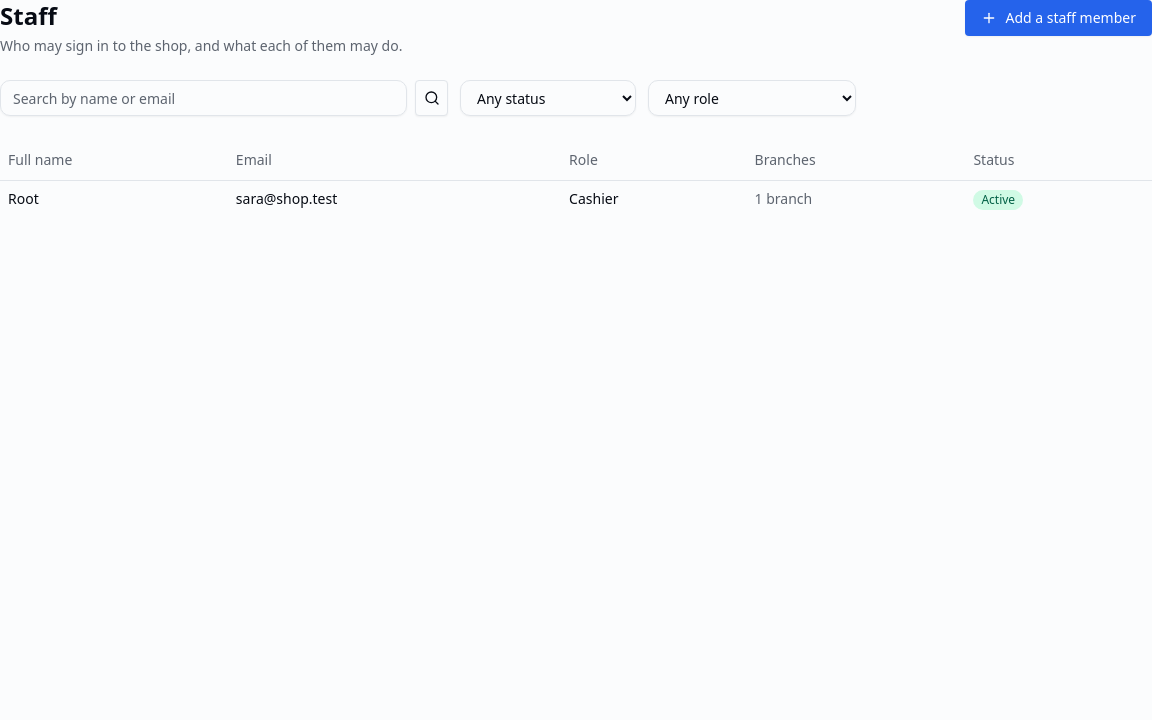
Test: Staff › will not let anyone edit their own access
The image size is (1152, 720).
Click the button "Root" at (23, 199), box [8, 189, 39, 209]
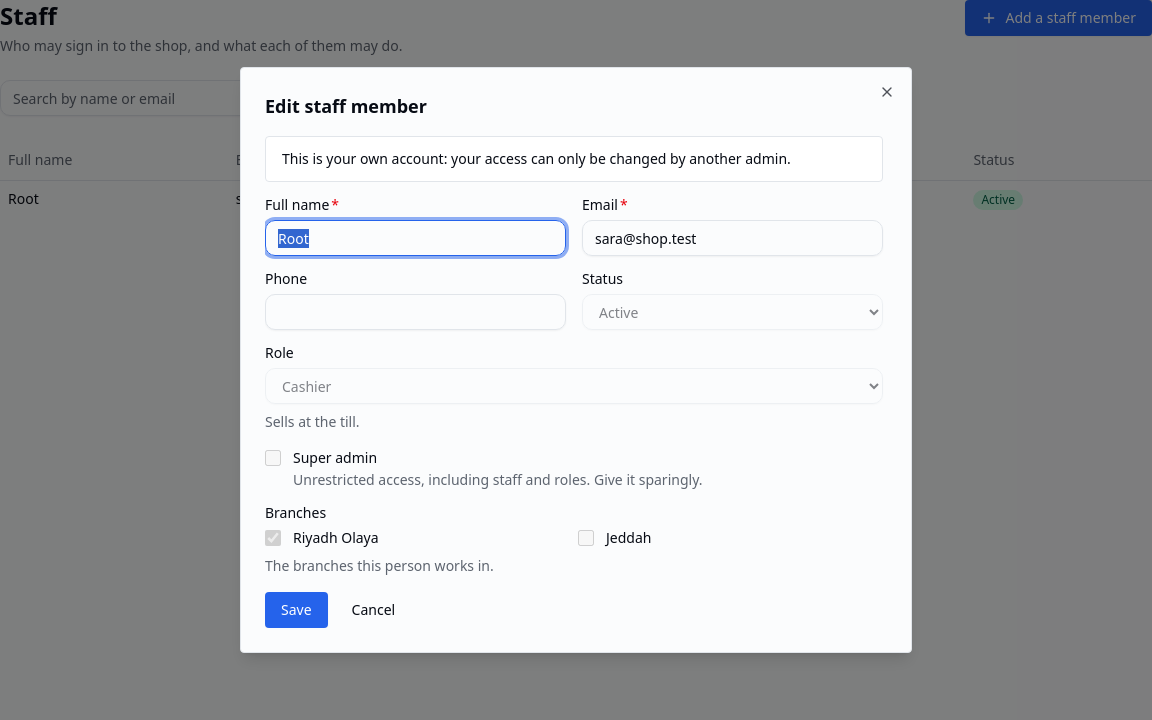
Expected: the text "This is your own account: your access can only be changed by another admin." is shown, [265, 136, 883, 182]
Expected: the dropdown labelled "Role" is disabled, [265, 368, 883, 404]
Expected: the dropdown labelled "Status" is disabled, [582, 294, 883, 330]
